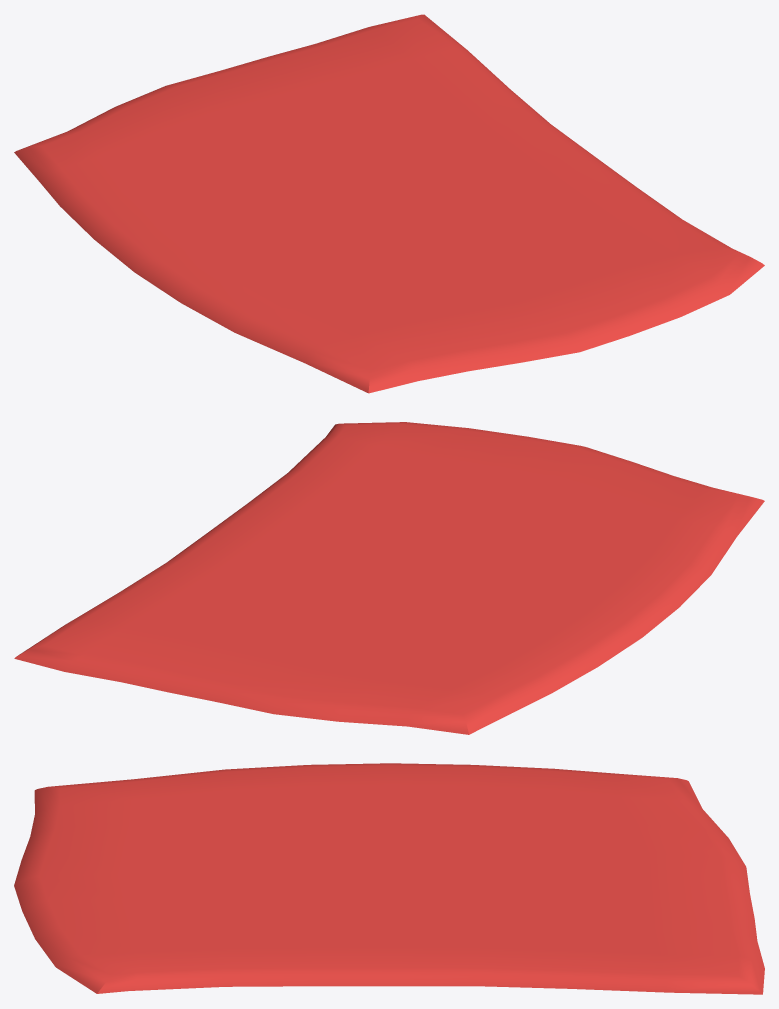
Rendered from Lst2.fbx.
3 views of the same model, one above another, from view 1: azimuth 30°, elevation 25°; view 2: azimuth 150°, elevation 25°; view 3: azimuth 270°, elevation 25° (orthographic). The views are drawn at different scales.
Parts seen in each view (by area): view 1: cit.001; view 2: cit.001; view 3: cit.001.
Part boxes in pixels (x1=…): cit.001: x1=14, y1=14, x2=764, y2=393; cit.001: x1=14, y1=422, x2=764, y2=734; cit.001: x1=14, y1=763, x2=764, y2=994.
Size of the model in its own units: 276 by 5.37 by 382.
